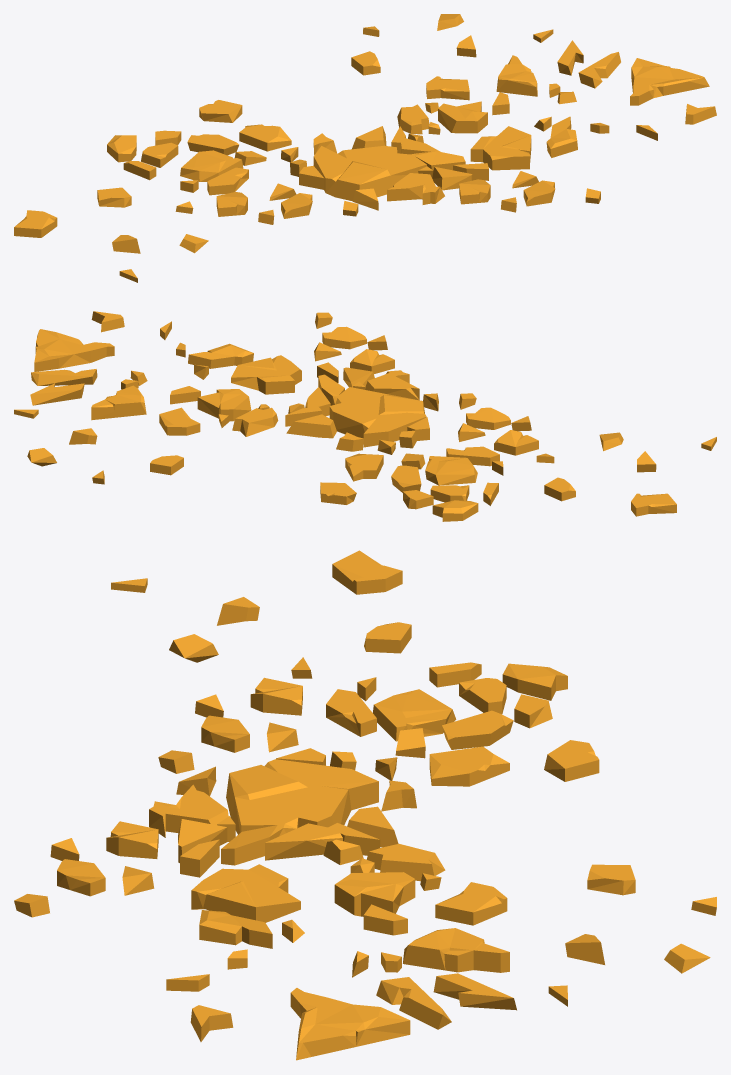
The model's file is SM_Iceberg_Shards_Small_C_Plane.fbx.
The picture shows the model from 3 angles, top to bottom: view 1: azimuth 30°, elevation 25°; view 2: azimuth 150°, elevation 25°; view 3: azimuth 270°, elevation 25°; orthographic projection. The views are drawn at different scales.
Visible parts, largest first — view 1: iceberg-shards-small-c-plane; view 2: iceberg-shards-small-c-plane; view 3: iceberg-shards-small-c-plane.
Part boxes in pixels (left/top/right/bottom): iceberg-shards-small-c-plane: left=14, top=14, right=716, bottom=282; iceberg-shards-small-c-plane: left=14, top=311, right=716, bottom=521; iceberg-shards-small-c-plane: left=14, top=550, right=716, bottom=1060.
Size of the model in its own units: 4.95 by 0.1816 by 2.96.
